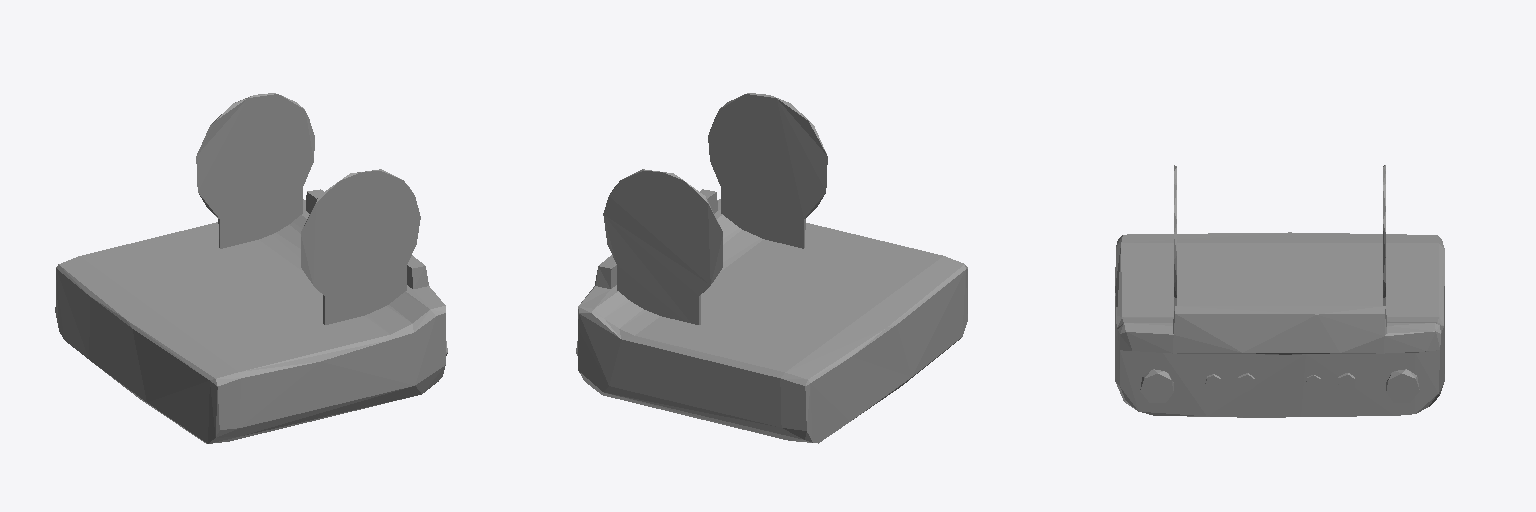
File: head_tilt_link.OBJ
3 views of the same model, side by side, from view 1: azimuth 30°, elevation 25°; view 2: azimuth 150°, elevation 25°; view 3: azimuth 270°, elevation 25° (orthographic).
Parts seen in each view (by area): view 1: /ambf/env/pr2/head_tilt_link_/ambf/env/pr2/head_tilt_link_head_t; view 2: /ambf/env/pr2/head_tilt_link_/ambf/env/pr2/head_tilt_link_head_t; view 3: /ambf/env/pr2/head_tilt_link_/ambf/env/pr2/head_tilt_link_head_t.
Part boxes in pixels (x1,y1,x2,y2): /ambf/env/pr2/head_tilt_link_/ambf/env/pr2/head_tilt_link_head_t: (55, 93, 447, 443); /ambf/env/pr2/head_tilt_link_/ambf/env/pr2/head_tilt_link_head_t: (576, 93, 967, 443); /ambf/env/pr2/head_tilt_link_/ambf/env/pr2/head_tilt_link_head_t: (1115, 165, 1444, 417).
Size of the model in its own units: 0.2617 by 0.2171 by 0.2956.